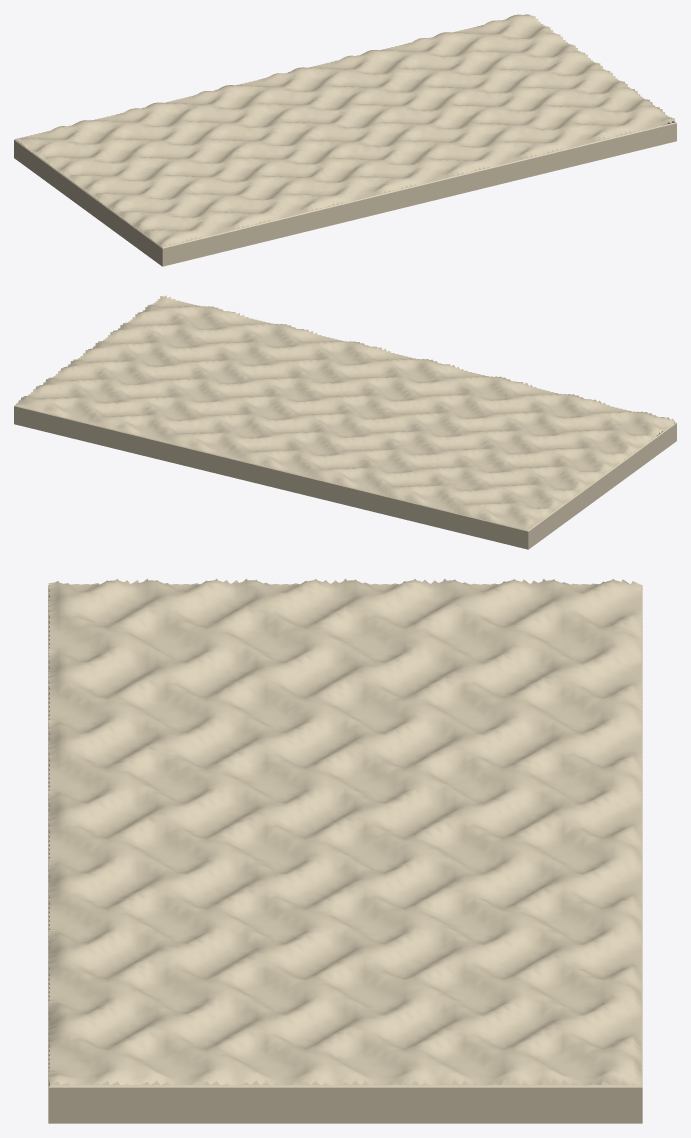
File: mahsulot.glb
3 renders of one model, top to bottom at view 1: azimuth 30°, elevation 25°; view 2: azimuth 150°, elevation 25°; view 3: azimuth 270°, elevation 25°, orthographic. The views are drawn at different scales.
Parts seen in each view (by area): view 1: mahsulot; view 2: mahsulot; view 3: mahsulot.
Boxes of the visible parts, left/top/right/bottom form: mahsulot: left=14, top=14, right=676, bottom=266; mahsulot: left=14, top=295, right=676, bottom=549; mahsulot: left=48, top=578, right=642, bottom=1123.
Bounding box in the file's own units: 1 × 0.0447 × 0.5.
